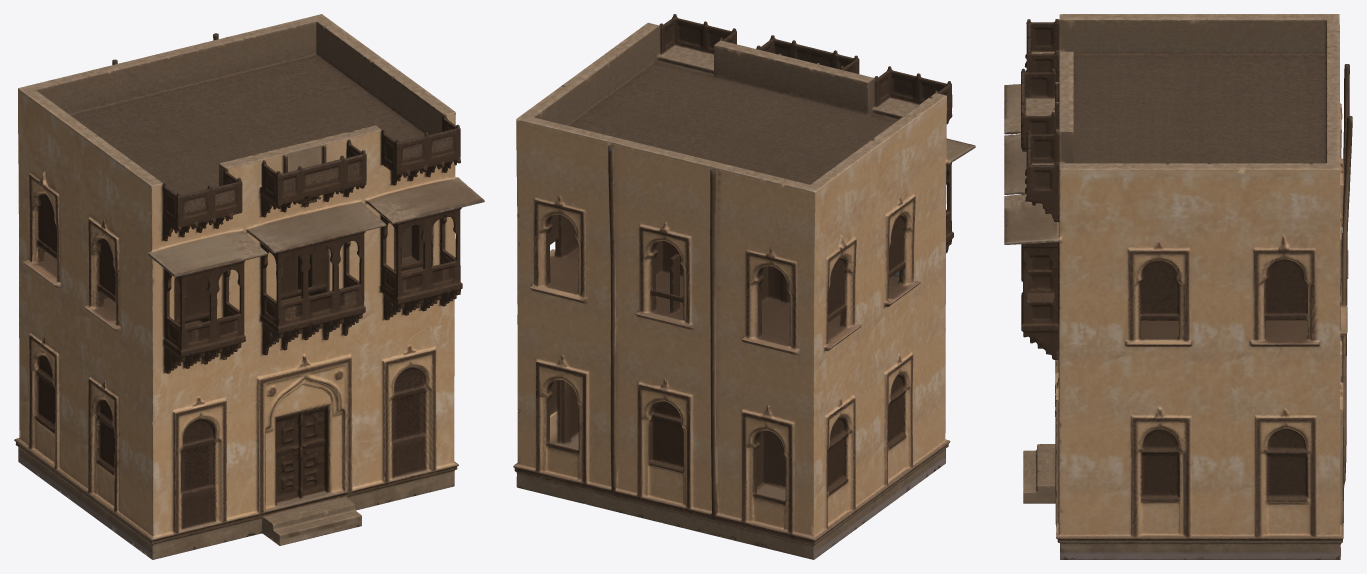
File: meshy_haveli_86_hvl.glb
3 views of the same model, side by side, from view 1: azimuth 30°, elevation 25°; view 2: azimuth 150°, elevation 25°; view 3: azimuth 270°, elevation 25° (orthographic). The views are drawn at different scales.
Size of the model in its own units: 1.67 by 1.9 by 1.53.
1 material, 1 textured.
